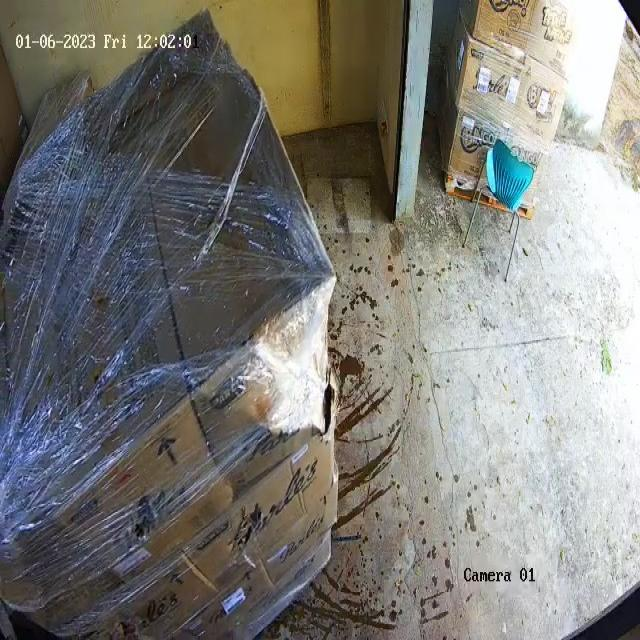leakage: (279, 360, 341, 483), (226, 507, 274, 572), (118, 490, 165, 554)
